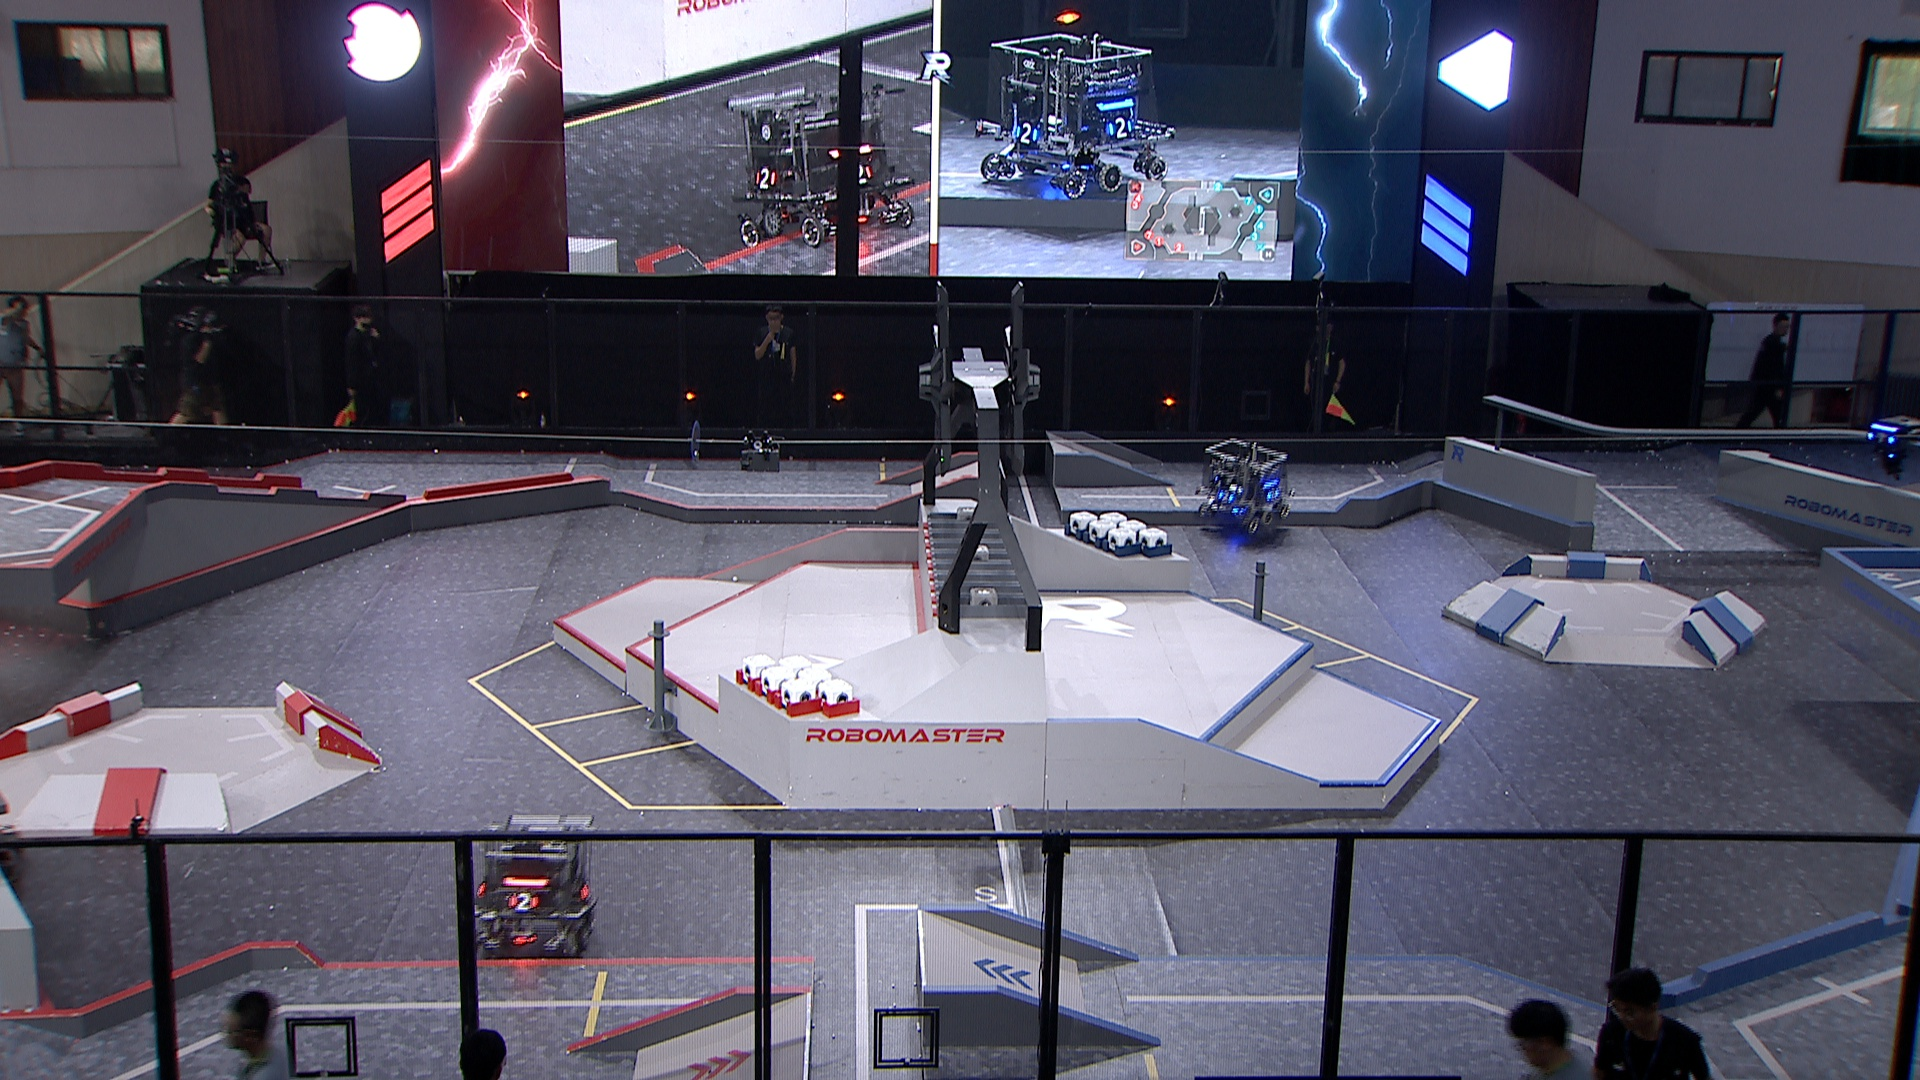armor: (508, 889, 541, 915), (1865, 431, 1896, 450), (1262, 485, 1282, 502), (1215, 489, 1236, 505)
car: (475, 814, 608, 960), (1192, 434, 1300, 541)
ignore: (978, 32, 1178, 199), (731, 87, 916, 248)
watcher: (1861, 413, 1917, 477)
